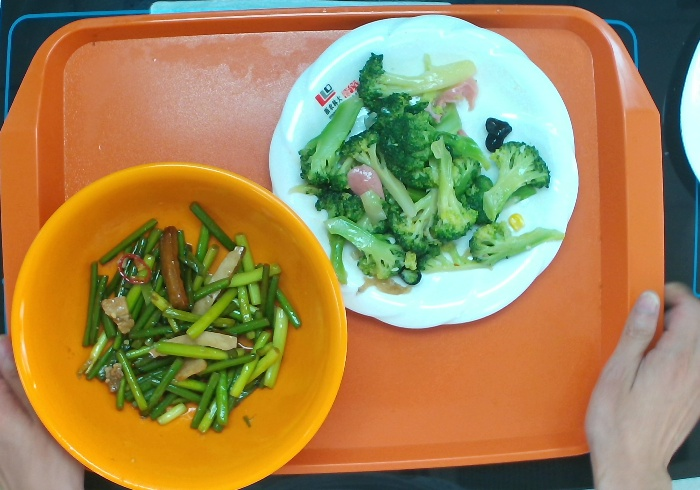ZNLD-Hua_Bian_Wan: (269, 12, 581, 328)
ZNLD-Ju_Se_Tang_Wan: (12, 160, 352, 489)
